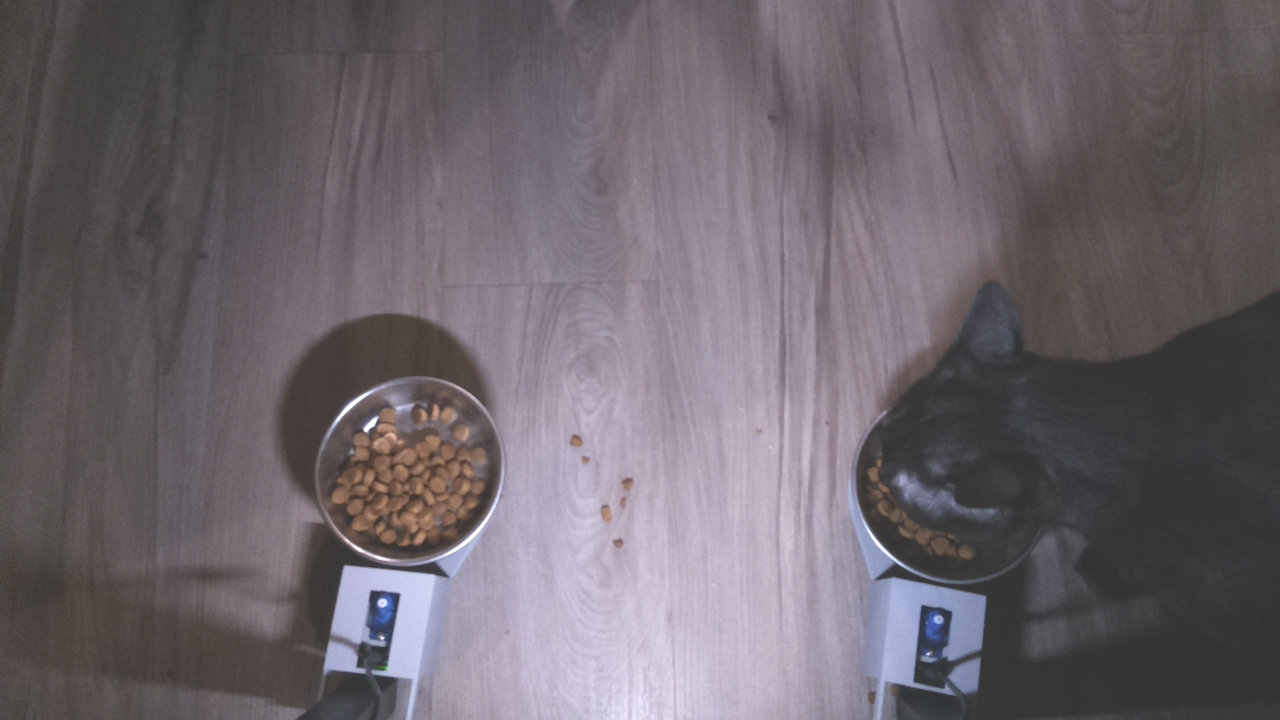open_bowl: (309, 368, 506, 575)
saki_eating: (843, 272, 1097, 598)
